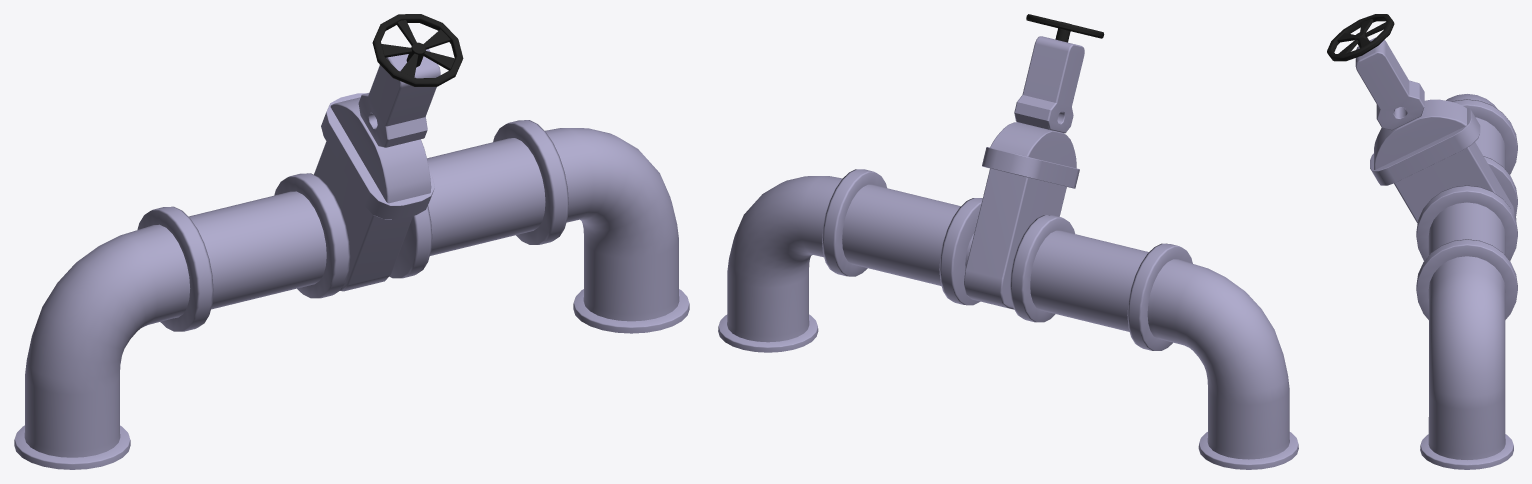
The model's file is purplePipe.fbx.
The picture shows the model from 3 angles, left to right: view 1: azimuth 30°, elevation 25°; view 2: azimuth 150°, elevation 25°; view 3: azimuth 270°, elevation 25°; orthographic projection. The views are drawn at different scales.
Parts seen in each view (by area): view 1: purplepipes_lo; view 2: purplepipes_lo; view 3: purplepipes_lo.
Boxes of the visible parts, x1,y1,x2,y2 form: purplepipes_lo: (14,14,689,469); purplepipes_lo: (718,14,1298,469); purplepipes_lo: (1327,14,1517,469).
Bounding box in the file's own units: 3.29 × 1.89 × 1.02.
